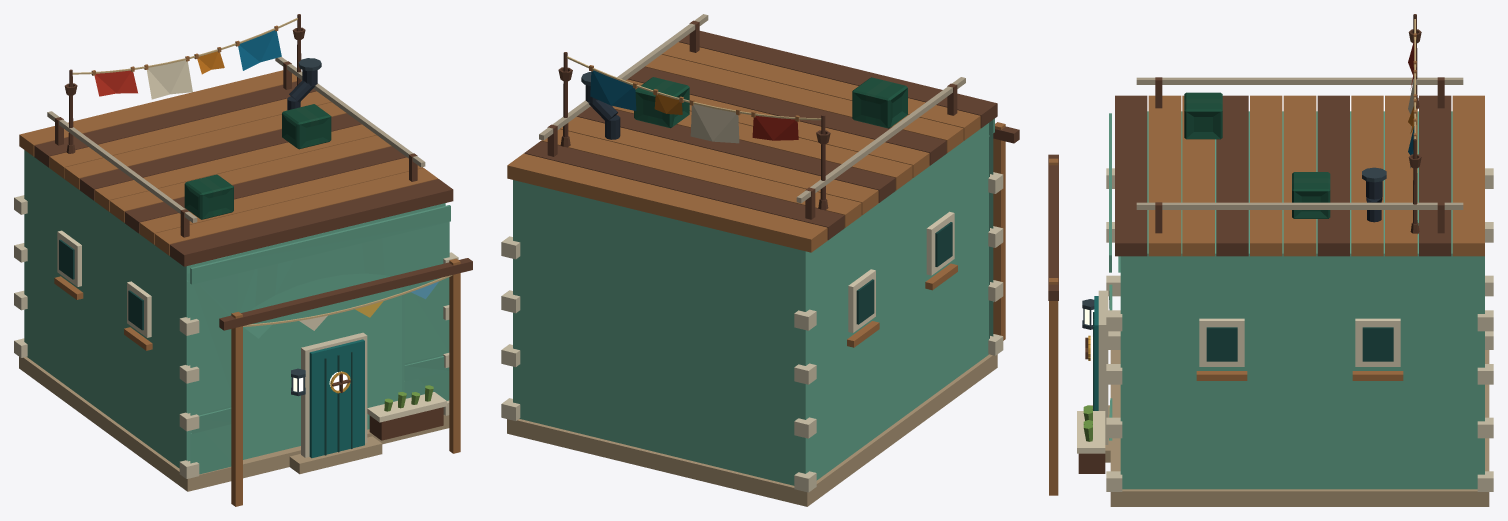
The model's file is boat-shop-large-mint.glb.
The picture shows the model from 3 angles, left to right: view 1: azimuth 30°, elevation 25°; view 2: azimuth 150°, elevation 25°; view 3: azimuth 270°, elevation 25°; orthographic projection. The views are drawn at different scales.
Parts seen in each view (by area): view 1: boat-shop-large-mint; view 2: boat-shop-large-mint; view 3: boat-shop-large-mint.
Boxes of the visible parts, x1,y1,x2,y2 form: boat-shop-large-mint: (14, 14, 472, 506); boat-shop-large-mint: (501, 14, 1019, 506); boat-shop-large-mint: (1048, 14, 1493, 506).
Size of the model in its own units: 4.89 by 5.46 by 6.17.
